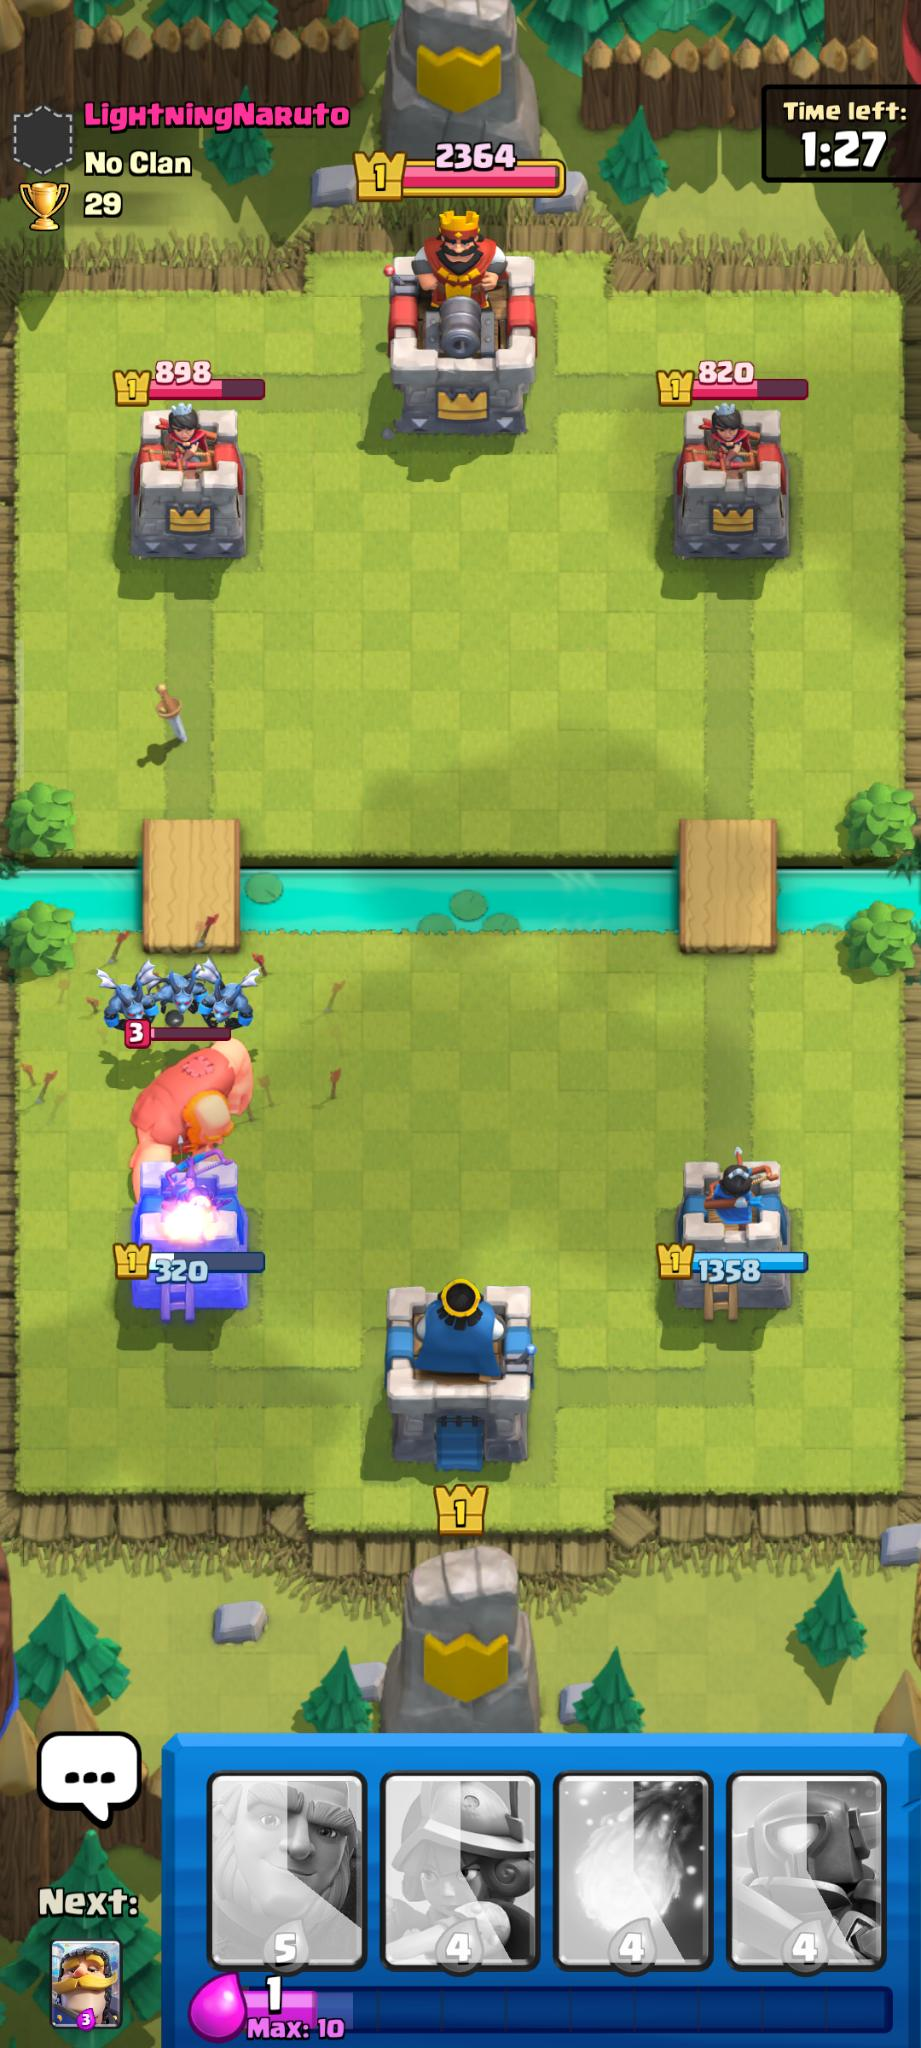gargouille: (99, 974, 152, 1042), (157, 967, 208, 1032), (209, 976, 260, 1037)
geant: (133, 1038, 259, 1189)
